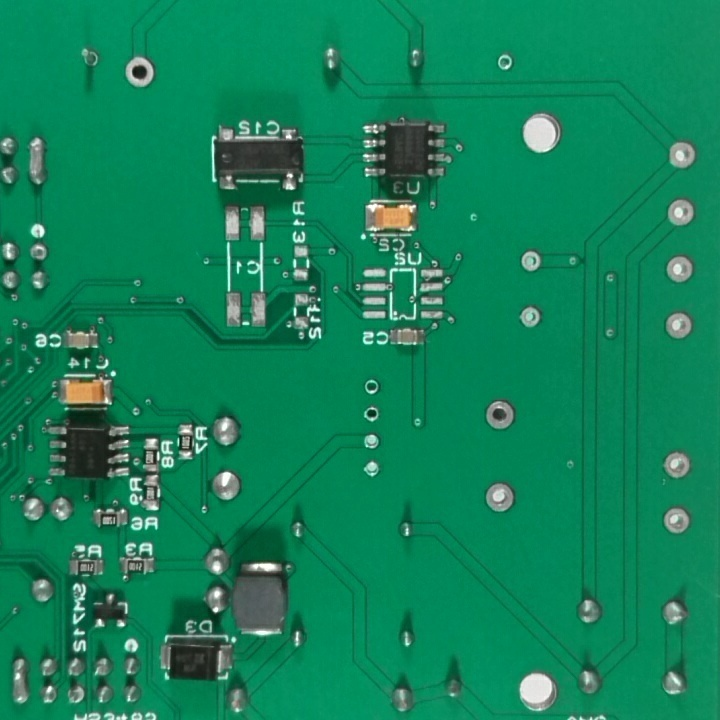F: (658, 191, 699, 238), (656, 303, 698, 346), (664, 129, 701, 175), (658, 444, 696, 486), (660, 252, 699, 292), (482, 477, 518, 520), (484, 396, 520, 437), (660, 498, 695, 538), (124, 52, 159, 91), (514, 301, 550, 332), (518, 249, 544, 282), (76, 46, 107, 72), (61, 684, 89, 712), (26, 244, 51, 269), (494, 48, 516, 75), (359, 458, 384, 481), (360, 432, 382, 454), (361, 377, 382, 400), (361, 404, 381, 428)
P: (23, 132, 52, 193), (7, 651, 33, 709)
